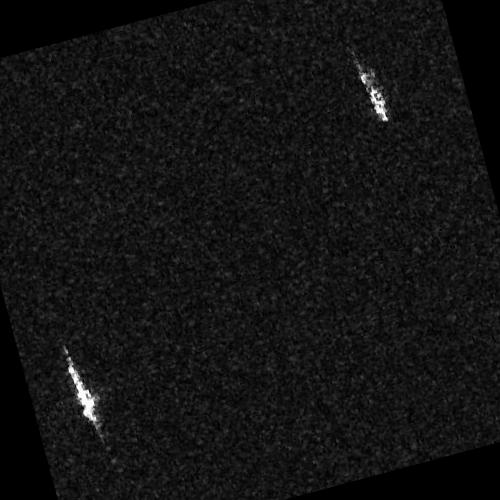ship: (65, 354, 99, 427), (358, 66, 390, 124)
